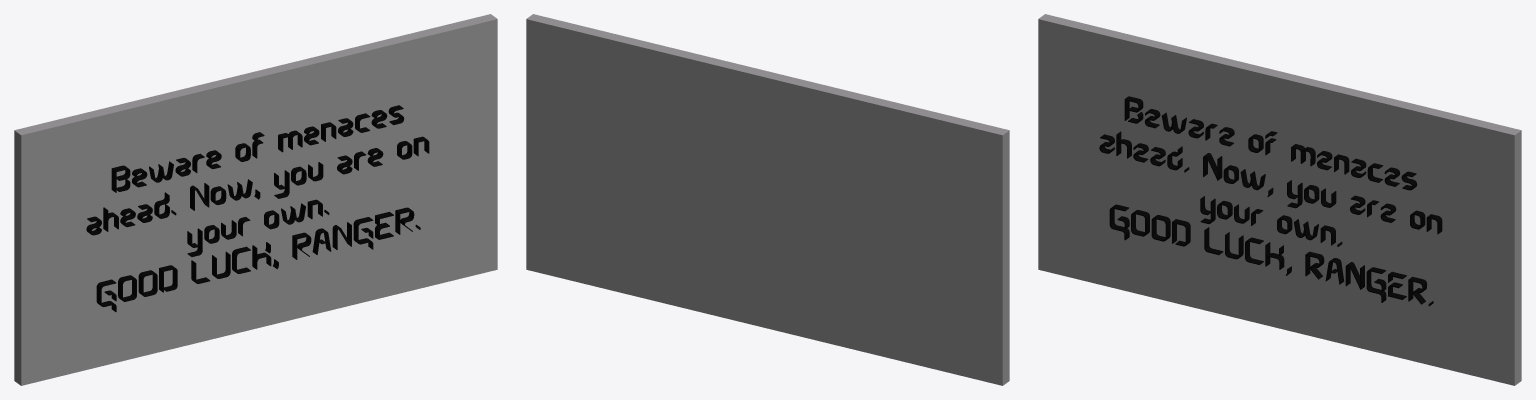
File: Cartel_Enemies.fbx
3 views of the same model, side by side, from view 1: azimuth 30°, elevation 25°; view 2: azimuth 150°, elevation 25°; view 3: azimuth 330°, elevation 25° (orthographic).
Parts seen in each view (by area): view 1: root, node_id194 (×4); view 2: root; view 3: root, node_id194 (×4).
Part boxes in pixels (x1,y1,x2,y2): root: (14,14,497,385); node_id194 (×4): (86,105,429,311); root: (526,14,1009,385); root: (1038,14,1521,385); node_id194 (×4): (1099,96,1442,306).
Bounding box in the file's own units: 0.511 × 0.2568 × 0.0205.
Materials: 5 (1 with a texture image).
